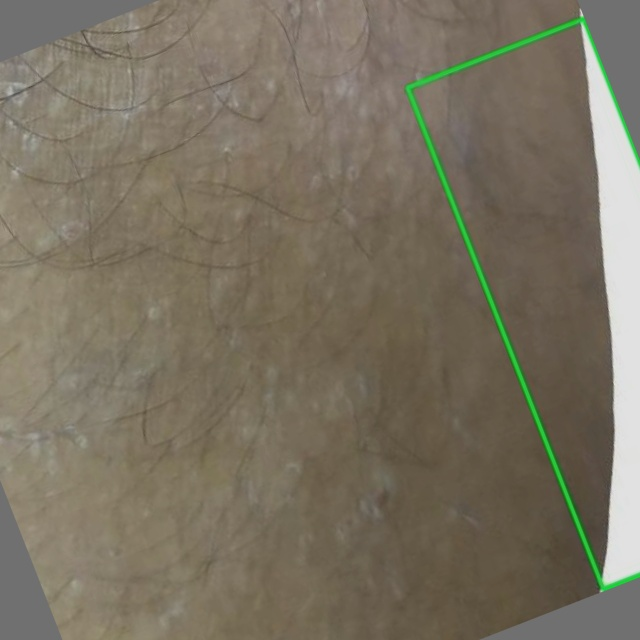Contact Dermatitis: (406, 18, 639, 590)
